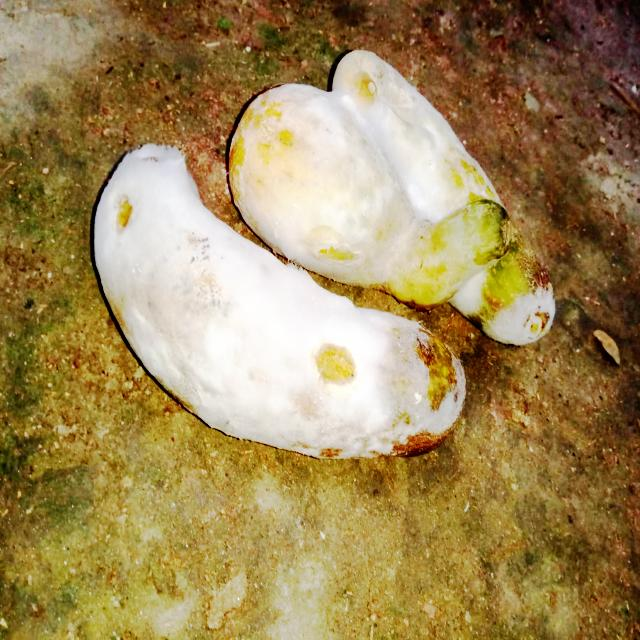Pythium-Fruit-Rot: (92, 44, 557, 459)
